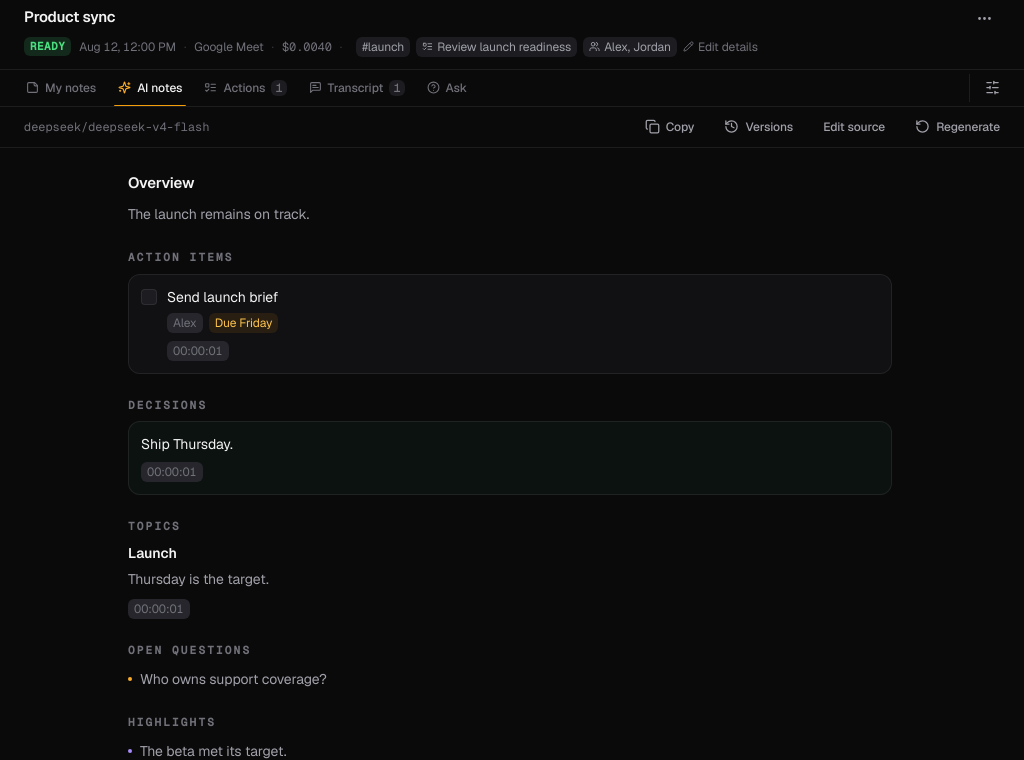
Scenario: MeetingWorkspace › preserves live edits and restores an earlier local notes version
Expected: the text "The launch remains on track." is shown, [128,205,309,223]
Click the button "Edit source" at (854, 126), box [811,112,897,140]
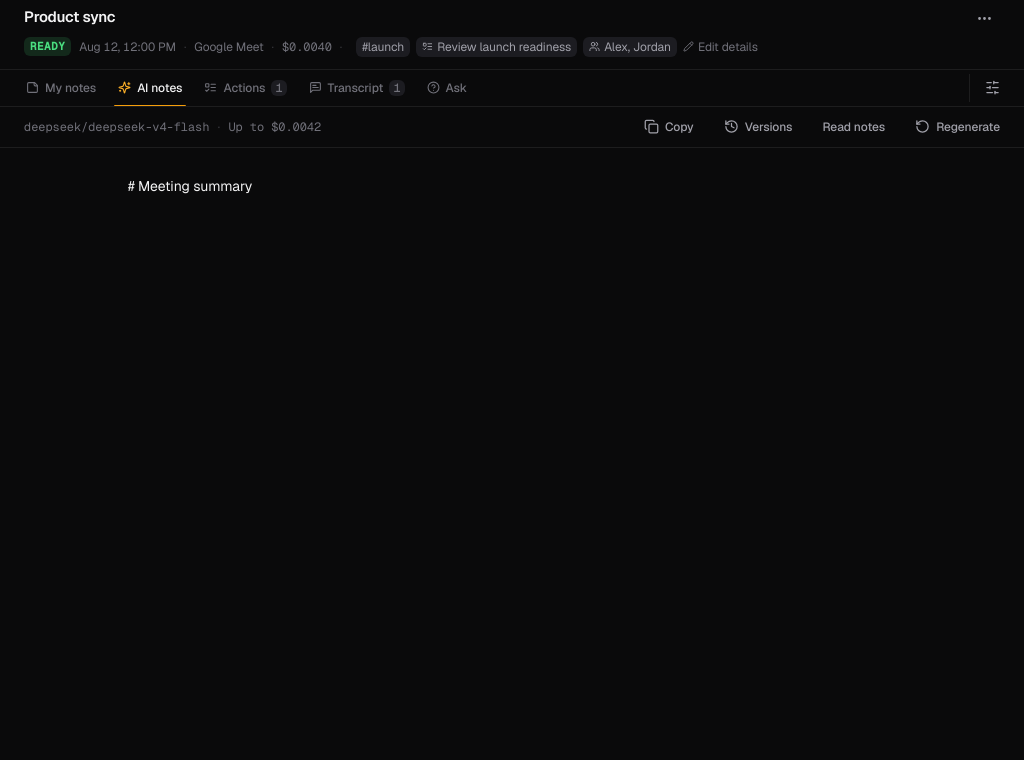
Replace the text in the text box showing "# Meeting summary" with "# Unsaved careful edit" at (512, 316), box [128,172,896,460]
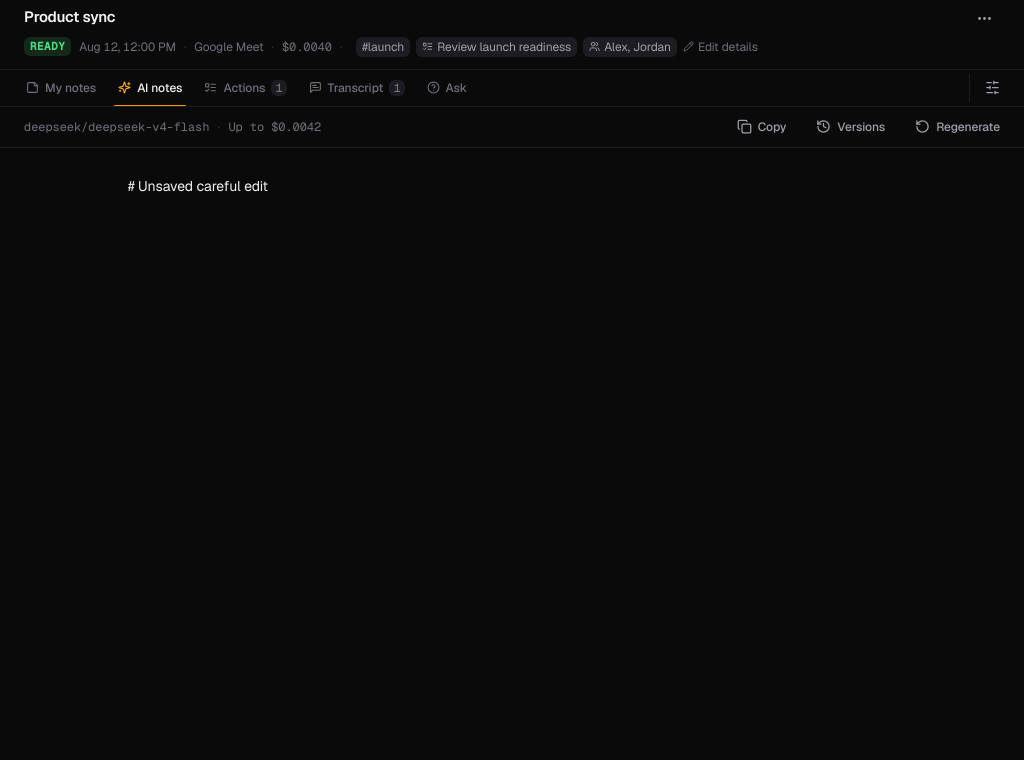
Click the button "Versions" at (851, 126), box [804,112,897,140]
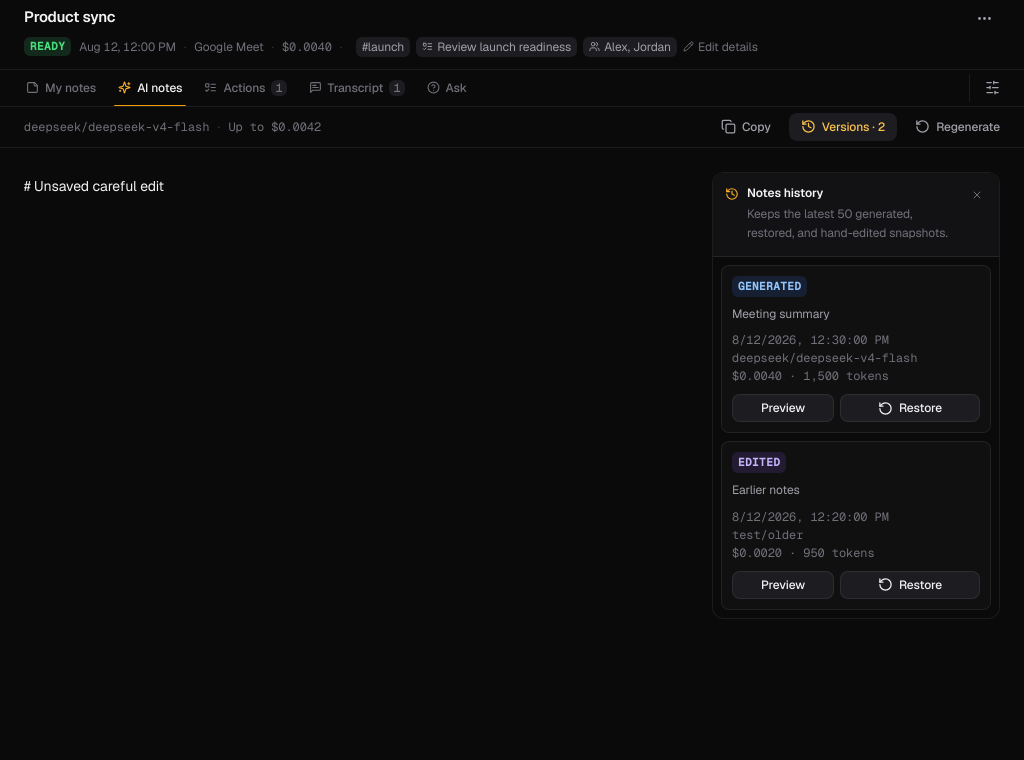
Expected: the button "Preview" below "$0.0020" is shown
Click the button "Preview" below "$0.0020" at (783, 585), box [732,571,834,599]
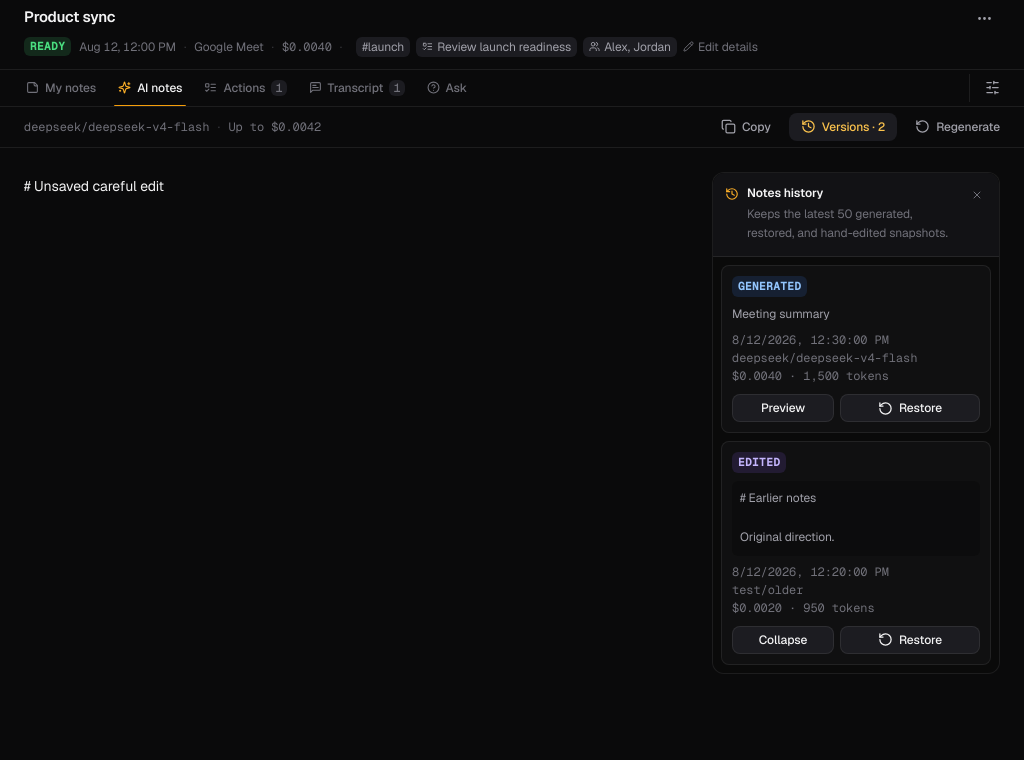
Expected: the button "Restore" below "$0.0020" is shown
Expected: the text "# Earlier notes Original direction." is shown, [732,481,980,556]
Click the button "Restore" below "$0.0020" at (910, 640), box [840,626,980,654]
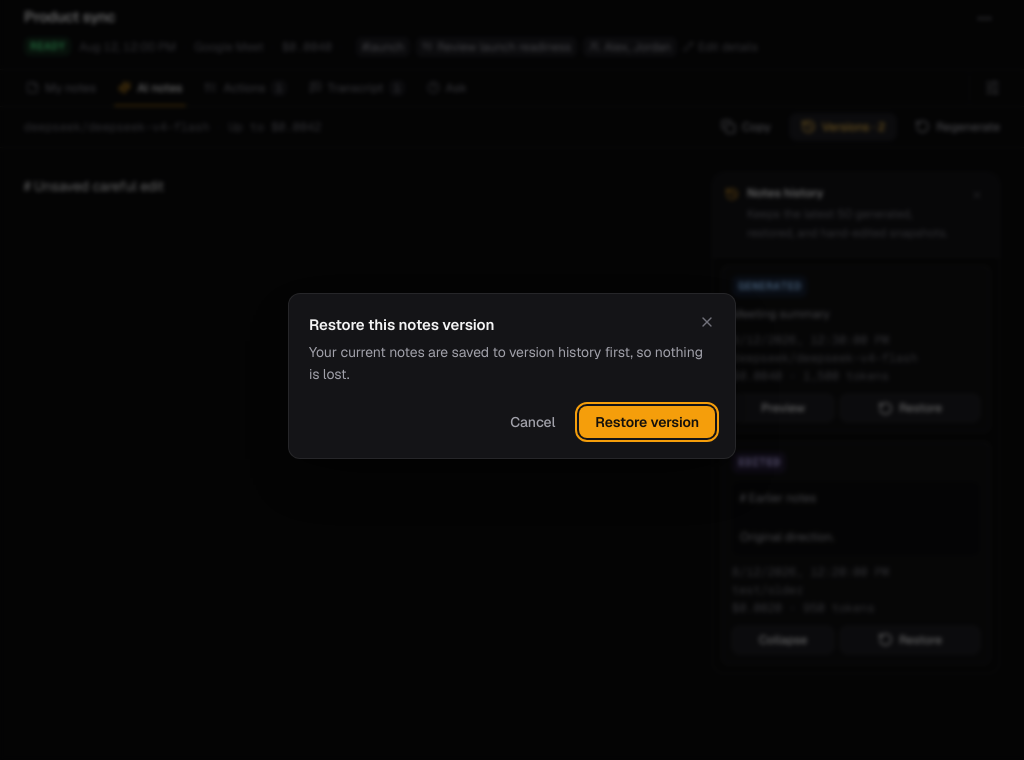
Expected: the heading "Restore this notes version" is shown, [309,314,494,336]
Click the button "Restore version" at (647, 422), box [579,406,715,438]
(page scrolled)
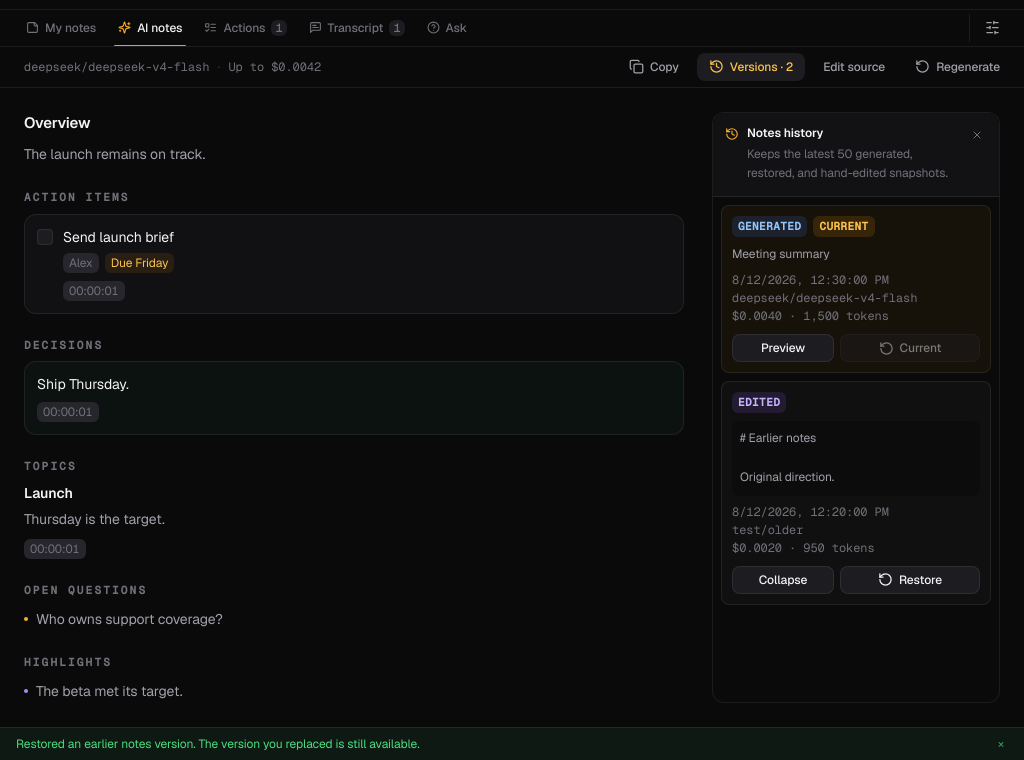
Expected: the text "Restored an earlier notes version" is shown, [16,736,420,752]
